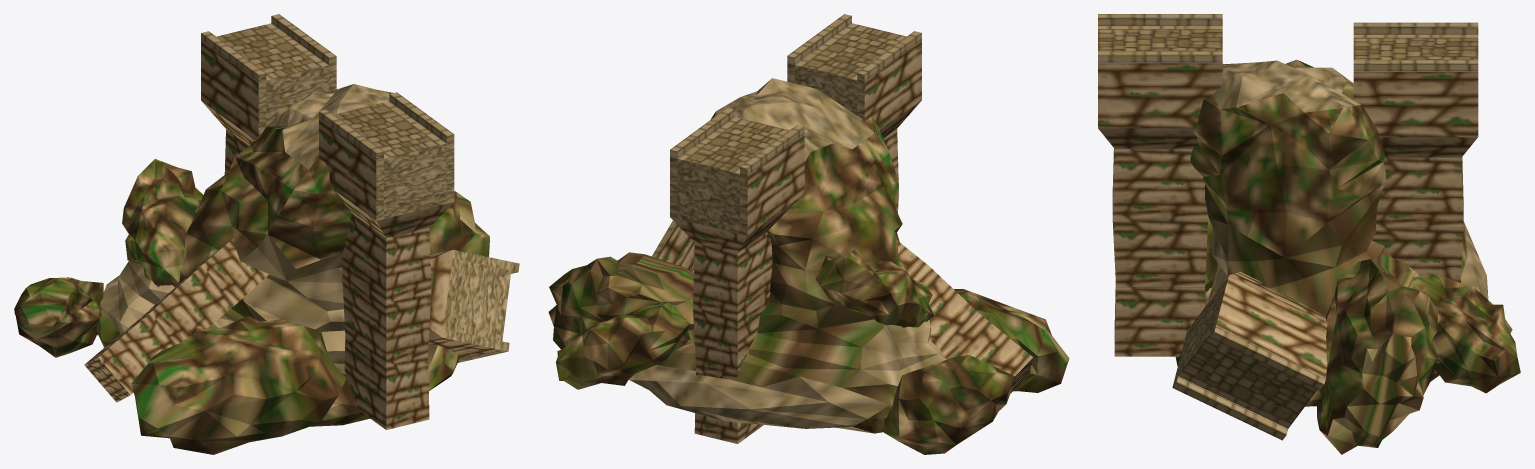
The model's file is CentralBrokenBridge.fbx.
3 views of the same model, side by side, from view 1: azimuth 30°, elevation 25°; view 2: azimuth 150°, elevation 25°; view 3: azimuth 270°, elevation 25° (orthographic). The views are drawn at different scales.
Parts seen in each view (by area): view 1: Cube.018, Cube.005, Cube.007, Cube.015, Cube.017; view 2: Cube.018, Cube.007, Cube.005, Cube.015, Cube.017; view 3: Cube.018, Cube.005, Cube.007, Cube.017.
Boxes of the visible parts, x1,y1,x2,y2 form: Cube.018: (14,84,489,454); Cube.005: (319,92,454,429); Cube.007: (201,14,336,174); Cube.015: (84,239,268,402); Cube.017: (428,249,519,362); Cube.018: (548,78,1069,454); Cube.007: (670,108,804,443); Cube.005: (787,14,921,212); Cube.015: (897,240,1033,393); Cube.017: (652,220,694,272); Cube.018: (1175,59,1520,454); Cube.005: (1098,14,1222,356); Cube.007: (1353,22,1478,282); Cube.017: (1172,272,1327,440).
Size of the model in its own units: 4671 by 2985 by 3377.
